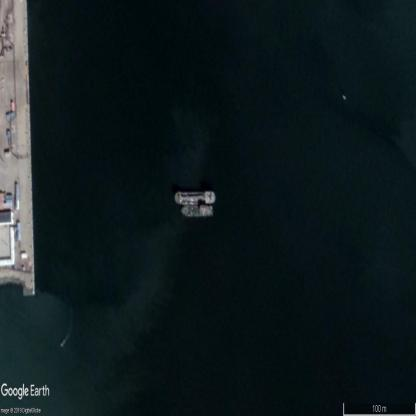ship: (175, 189, 216, 205), (181, 206, 214, 218)
